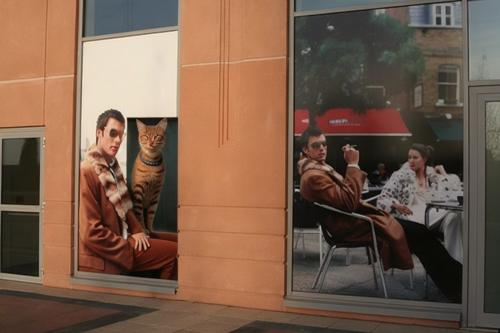cat: (127, 117, 177, 283)
chair: (294, 188, 391, 300)
person: (295, 126, 464, 305), (81, 107, 155, 278), (377, 144, 464, 268)
person/hand: (135, 246, 155, 269), (344, 145, 361, 165), (397, 204, 415, 218), (435, 166, 447, 176)
person/head: (96, 109, 126, 159), (300, 127, 327, 161), (408, 145, 430, 171)
